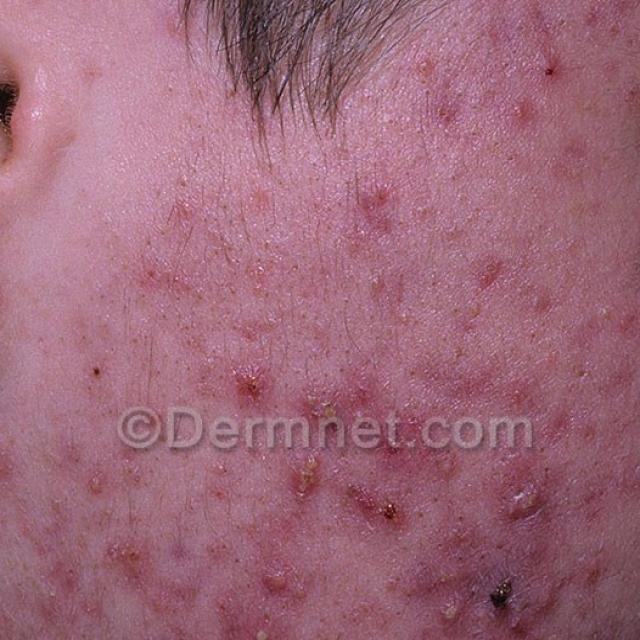Acne: (79, 33, 640, 640), (0, 429, 274, 640), (425, 525, 554, 640)
